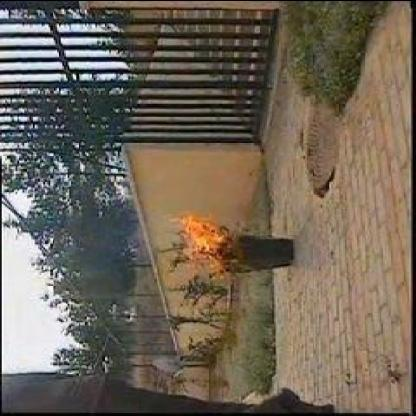foggia-v2-map80-epoch100 - v1 4323: (168, 212, 234, 274)
